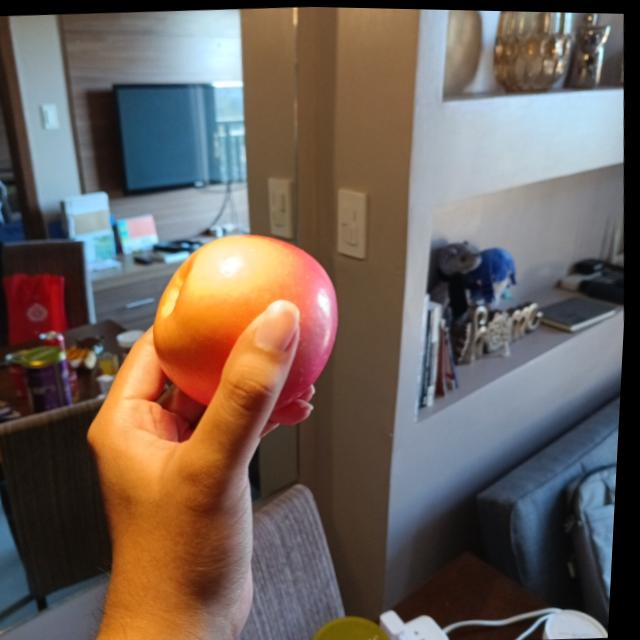apple: (150, 228, 351, 419)
